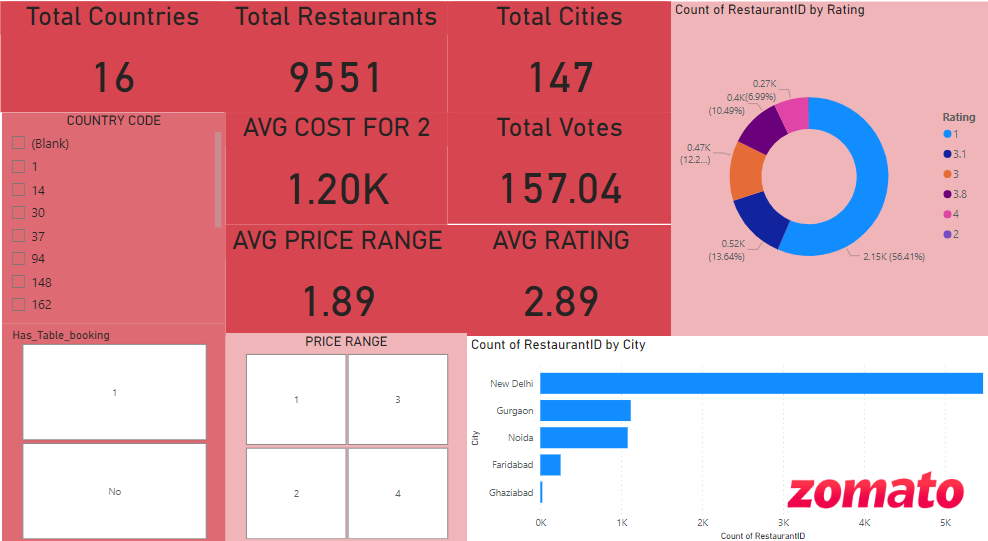

The page's visual inventory and layout, read from the dashboard file:
{"tool":"powerbi","page":{"name":"Page 1","canvas":[1280,720],"ordinal":0},"visuals":[{"type":"card","title":"Total Countries","fields":{"Values":["Count(ZomatoData.CountryCode)"]},"box":[27.5,35.6,281.5,139.1],"z":0},{"type":"card","title":"AVG RATING","fields":{"Values":["Avg(ZomatoData.Rating)"]},"box":[592.8,317.2,281.3,139.7],"z":1000},{"type":"card","title":"Total Cities","fields":{"Values":["Count(ZomatoData.City)"]},"box":[590.9,35.9,281.3,139.7],"z":2000},{"type":"card","title":"Total Restaurants","fields":{"Values":["CountNonNull(ZomatoData.RestaurantID)"]},"box":[309.6,35.9,281.3,139.7],"z":3000},{"type":"card","title":"Total Votes","fields":{"Values":["Avg(ZomatoData.Votes)"]},"box":[590.9,175.6,281.3,139.7],"z":3001},{"type":"card","title":"AVG PRICE RANGE","fields":{"Values":["Avg(ZomatoData.Price_range)"]},"box":[311.5,317.2,281.3,139.7],"z":3002},{"type":"card","title":"AVG COST FOR 2","fields":{"Values":["Avg(ZomatoData.Average_Cost_for_two)"]},"box":[311.5,175.6,279.4,141.6],"z":3003},{"type":"slicer","title":"PRICE RANGE","fields":{"Values":["ZomatoData.Price_range"]},"box":[311.5,453.1,304,266.2],"z":3006},{"type":"slicer","title":"COUNTRY CODE","fields":{"Values":["ZomatoData.CountryCode"]},"box":[30.2,175.6,281.3,266.2],"z":3008},{"type":"slicer","fields":{"Values":["ZomatoData.Has_Table_booking"]},"box":[30.2,441.8,281.3,277.5],"z":3009},{"type":"donutChart","fields":{"Y":["CountNonNull(ZomatoData.RestaurantID)"],"Category":["ZomatoData.Rating"]},"box":[872.2,35.9,407.8,421],"z":3010},{"type":"barChart","fields":{"Y":["CountNonNull(ZomatoData.RestaurantID)"],"Category":["ZomatoData.City"]},"box":[615.5,456.9,664.5,262.4],"z":3011},{"type":"image","box":[979.8,581.5,300.2,137.8],"z":3012}]}

Visuals, with their boxes in screenshot pixels (x1, y1, x2, y2), scaled from the page's 1280x720 canvas onto the 988x541 screenshot:
"Total Countries" card: crop(21, 27, 239, 131)
"AVG RATING" card: crop(458, 238, 675, 343)
"Total Cities" card: crop(456, 27, 673, 132)
"Total Restaurants" card: crop(239, 27, 456, 132)
"Total Votes" card: crop(456, 132, 673, 237)
"AVG PRICE RANGE" card: crop(240, 238, 458, 343)
"AVG COST FOR 2" card: crop(240, 132, 456, 238)
"PRICE RANGE" slicer: crop(240, 340, 475, 540)
"COUNTRY CODE" slicer: crop(23, 132, 240, 332)
slicer - ZomatoData.Has_Table_booking: crop(23, 332, 240, 540)
donutChart - CountNonNull(ZomatoData.RestaurantID) x ZomatoData.Rating: crop(673, 27, 987, 343)
barChart - CountNonNull(ZomatoData.RestaurantID) x ZomatoData.City: crop(475, 343, 987, 540)
image: crop(756, 437, 987, 540)
